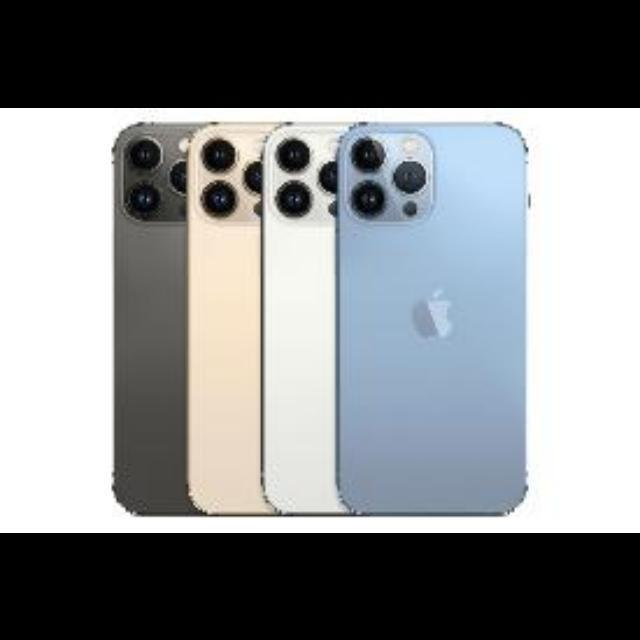PhoneUse: (338, 124, 528, 514), (261, 125, 335, 513), (115, 121, 187, 516), (190, 121, 262, 511)
